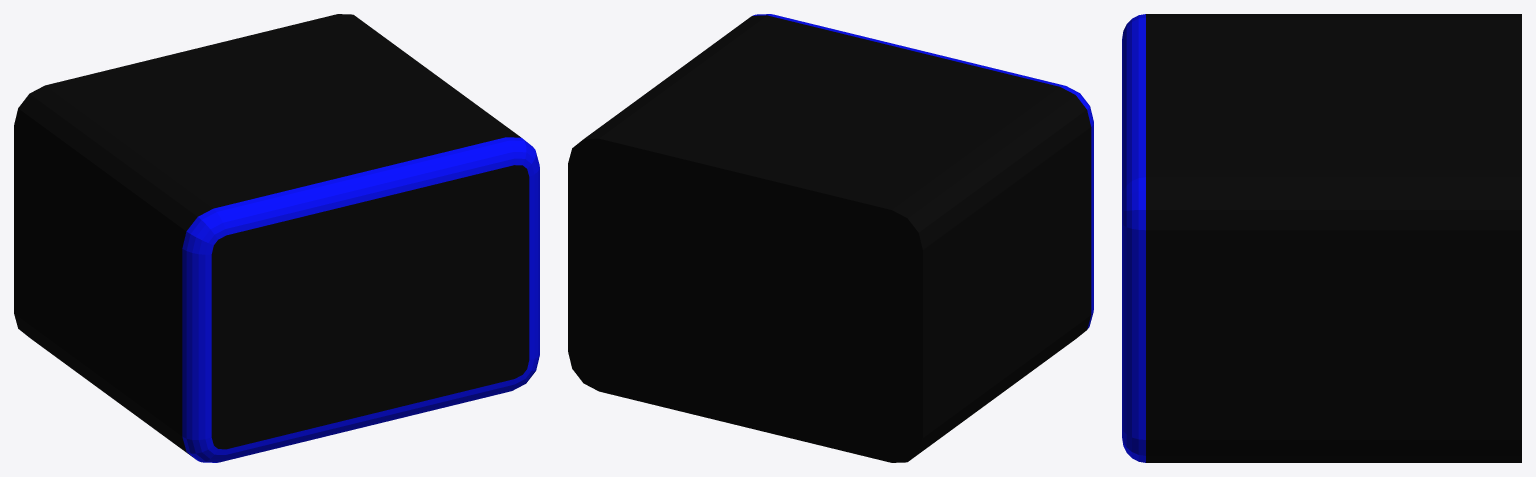
The model's file is 2_Small_Rect_Wall.obj.
The picture shows the model from 3 angles, left to right: view 1: azimuth 30°, elevation 25°; view 2: azimuth 150°, elevation 25°; view 3: azimuth 270°, elevation 25°; orthographic projection. The views are drawn at different scales.
Parts seen in each view (by area): view 1: Small_Rect_Wall_Plane.013; view 2: Small_Rect_Wall_Plane.013; view 3: Small_Rect_Wall_Plane.013.
Part boxes in pixels (bbox=[...]): Small_Rect_Wall_Plane.013: bbox=[14, 14, 539, 462]; Small_Rect_Wall_Plane.013: bbox=[568, 14, 1093, 462]; Small_Rect_Wall_Plane.013: bbox=[1122, 14, 1521, 462].
Size of the model in its own units: 5.72 by 3.9 by 5.
